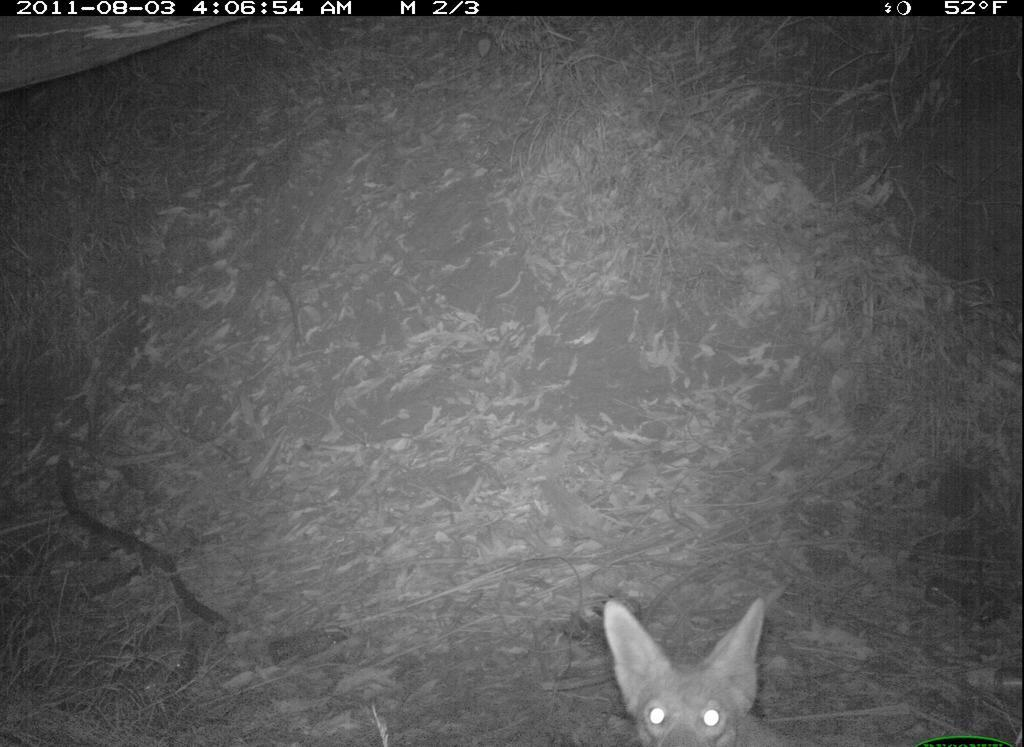coyote: (601, 593, 811, 744)
